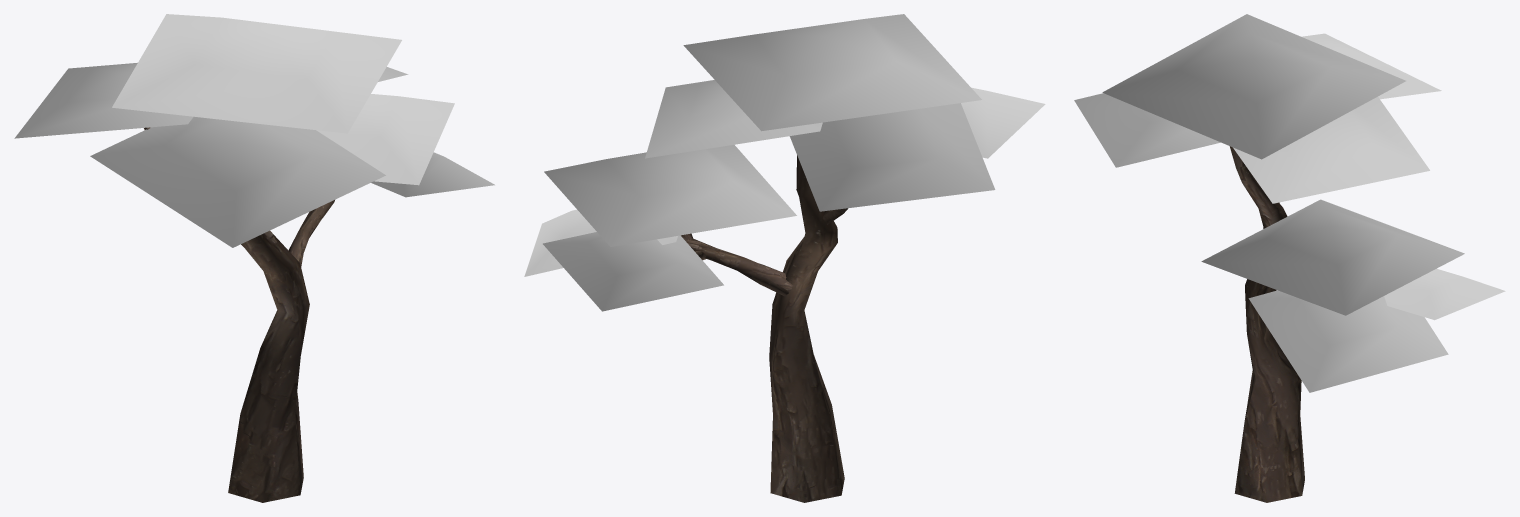
File: Tree_11_Red.FBX
3 views of the same model, side by side, from view 1: azimuth 30°, elevation 25°; view 2: azimuth 150°, elevation 25°; view 3: azimuth 270°, elevation 25° (orthographic). The views are drawn at different scales.
Visible parts, largest first — view 1: Object012, polySurface315; view 2: Object012, polySurface315; view 3: Object012, polySurface315.
Boxes of the visible parts, x1,y1,x2,y2 form: Object012: (14,14,494,247); polySurface315: (144,127,334,502); Object012: (524,14,1045,311); polySurface315: (681,155,847,502); Object012: (1074,14,1505,392); polySurface315: (1229,146,1304,502).
Bounding box in the file's own units: 220 × 203 × 187.
